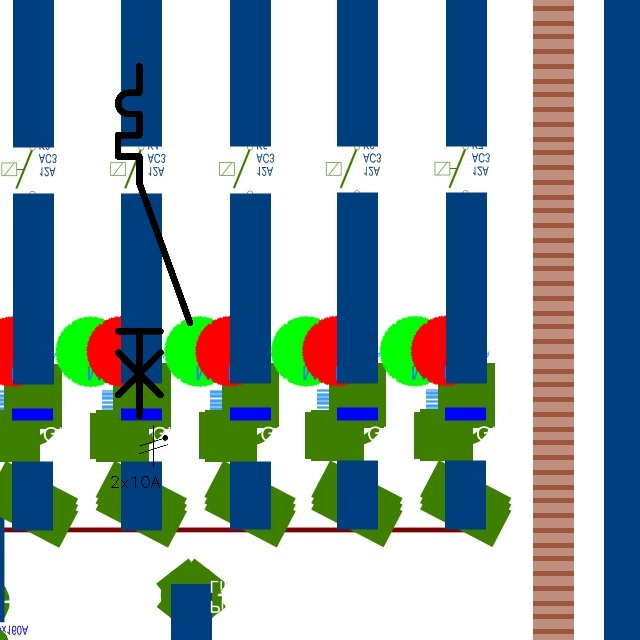interruptor_termomagnetico: (109, 57, 199, 425)
